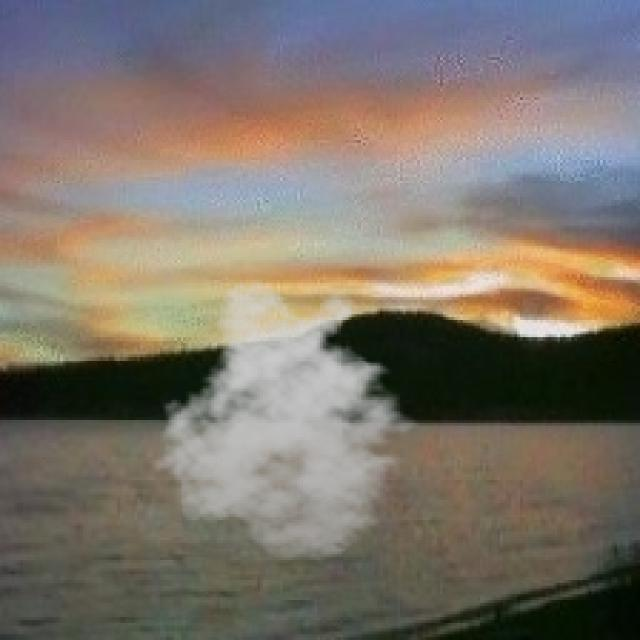smoke: (152, 280, 434, 563)
